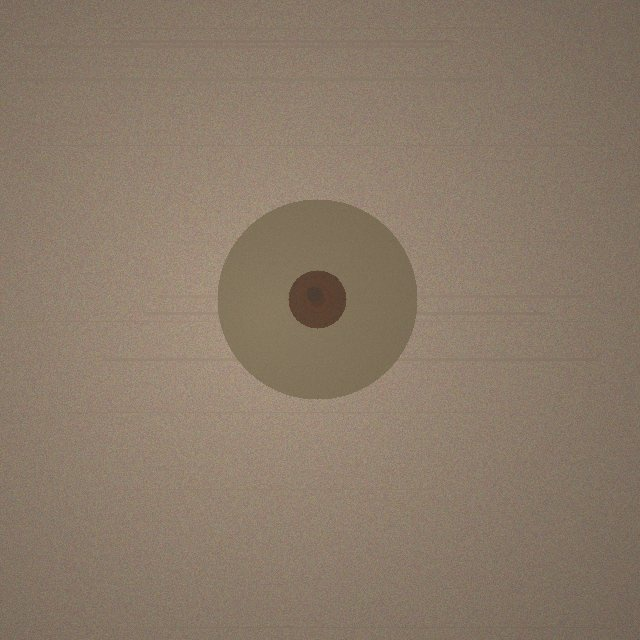cold_weld: (217, 199, 417, 399)
